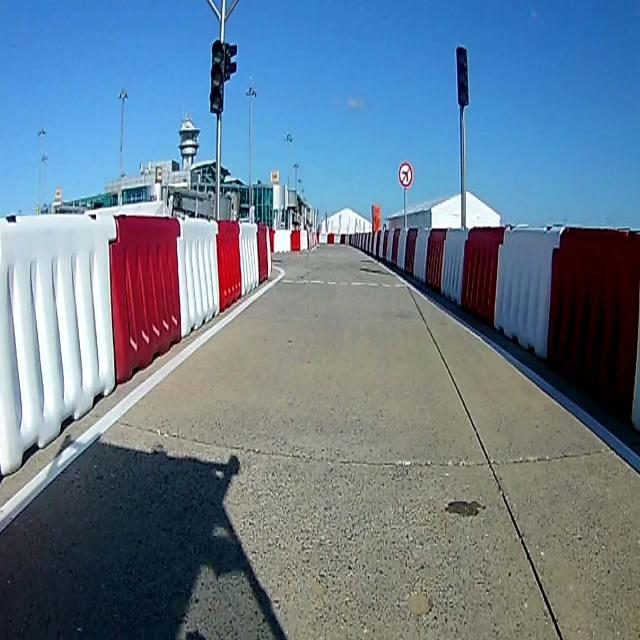soladonulmez: (398, 160, 412, 187)
